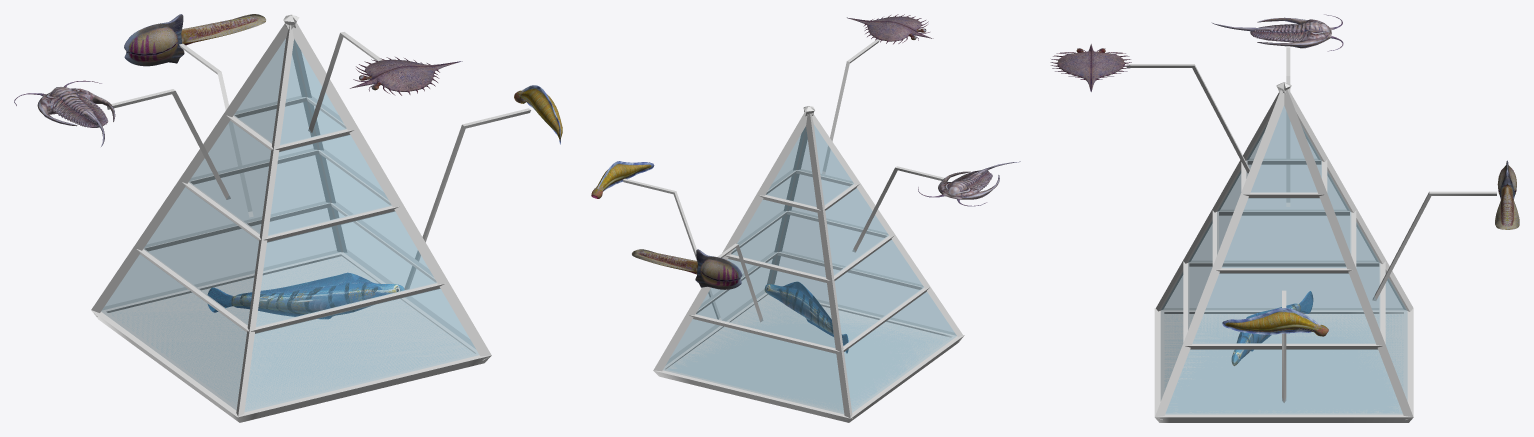
Rendered from jinzita.FBX.
3 views of the same model, side by side, from view 1: azimuth 30°, elevation 25°; view 2: azimuth 150°, elevation 25°; view 3: azimuth 270°, elevation 25° (orthographic). The views are drawn at different scales.
Parts seen in each view (by area): view 1: Pyramid001, Line001, Loft001, default002, NGon002, polySurface008, NGon003, NGon004, polySurface005, polySurface002, NGon001, NGon005 (+13 smaller); view 2: Pyramid001, Line001, Loft001, NGon004, NGon001, polySurface008, default002, NGon003, polySurface005, polySurface002, NGon002, Box002 (+10 smaller); view 3: Pyramid001, Line001, Loft001, NGon002, NGon001, NGon004, polySurface005, Box002, polySurface002, NGon003, NGon016, polySurface008 (+10 smaller).
Part boxes in pixels (x1,y1,x2,y2): Pyramid001: (101, 38, 478, 411); Line001: (108, 256, 474, 409); Loft001: (91, 249, 491, 422); default002: (207, 272, 404, 319); NGon002: (283, 15, 491, 360); polySurface008: (124, 14, 265, 66); NGon003: (236, 16, 296, 416); NGon004: (91, 15, 299, 316); polySurface005: (14, 80, 115, 146); polySurface002: (350, 57, 462, 95); NGon001: (284, 14, 346, 252); NGon005: (251, 282, 444, 333); Pyramid001: (663, 125, 956, 413); Line001: (666, 294, 950, 412); Loft001: (653, 289, 964, 422); NGon004: (803, 106, 852, 419); NGon001: (653, 106, 814, 374); polySurface008: (632, 249, 742, 289); default002: (764, 281, 848, 353); NGon003: (803, 106, 962, 337); polySurface005: (918, 161, 1020, 206); polySurface002: (847, 14, 933, 44); NGon002: (767, 106, 813, 284); Box002: (591, 161, 654, 198); Pyramid001: (1161, 106, 1407, 414); Line001: (1164, 314, 1403, 413); Loft001: (1154, 308, 1413, 422); NGon002: (1155, 82, 1291, 419); NGon001: (1276, 82, 1413, 419); NGon004: (1276, 82, 1413, 311); polySurface005: (1211, 14, 1343, 51); Box002: (1222, 308, 1328, 336); polySurface002: (1050, 44, 1131, 91); NGon003: (1156, 83, 1290, 311); NGon016: (1185, 343, 1382, 349); polySurface008: (1495, 160, 1519, 229).
Size of the model in its own units: 52.16 by 34.6 by 47.09.
